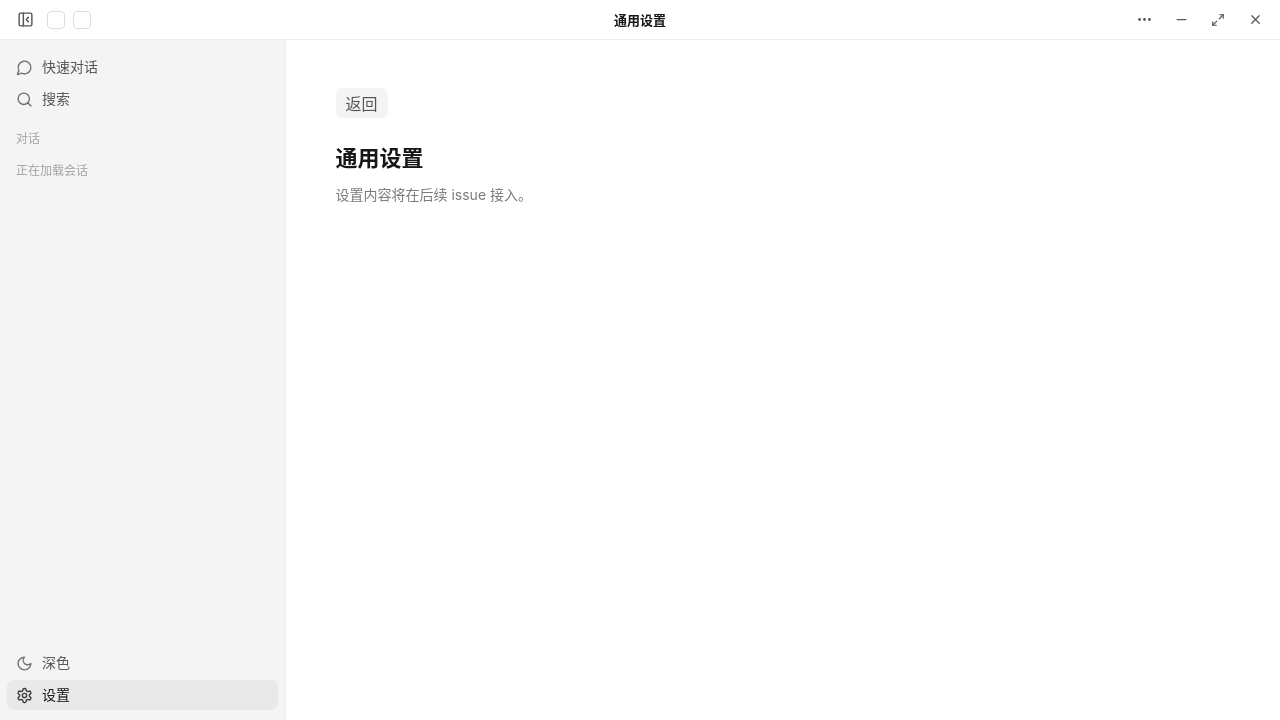
AppRouter › supports direct general settings route fallback back to guide
Expected: the heading "通用设置" is shown, [336,145,424,171]
Step 1. Click the button "返回" → (362,103), box [336,88,388,118]
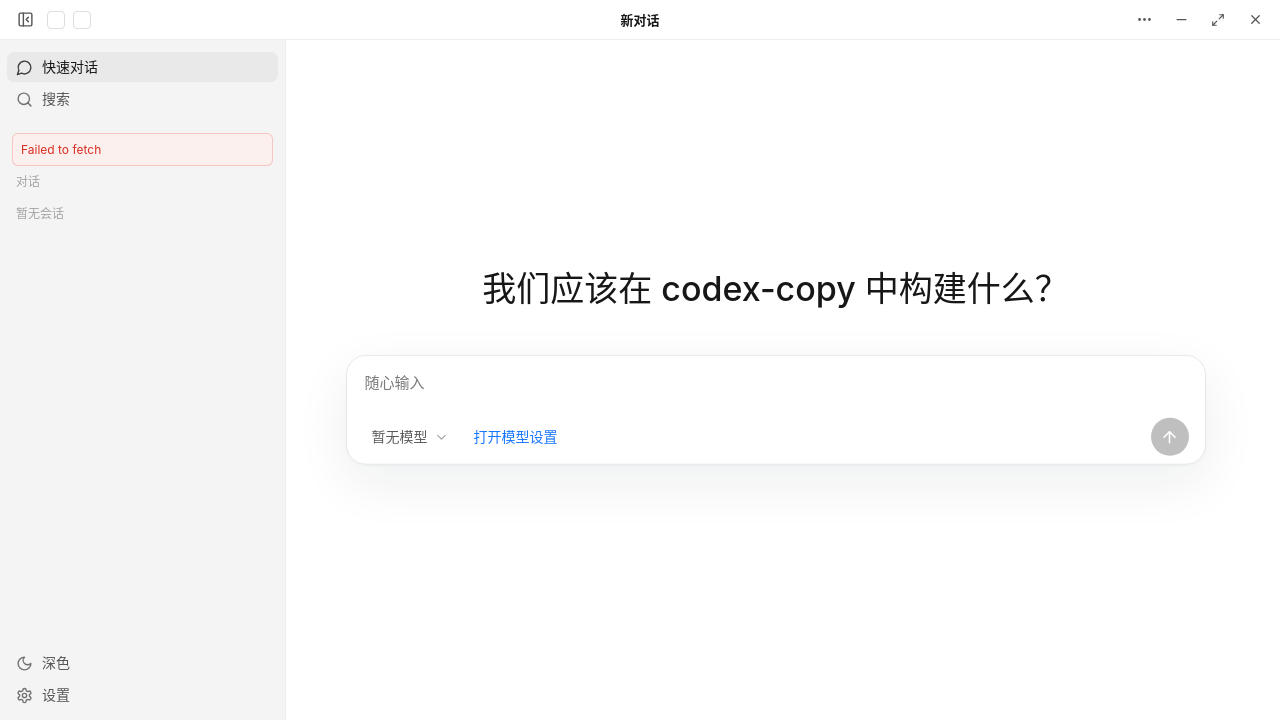
Now the element with test id "home-page" is shown, box [346,268,1206,465]
